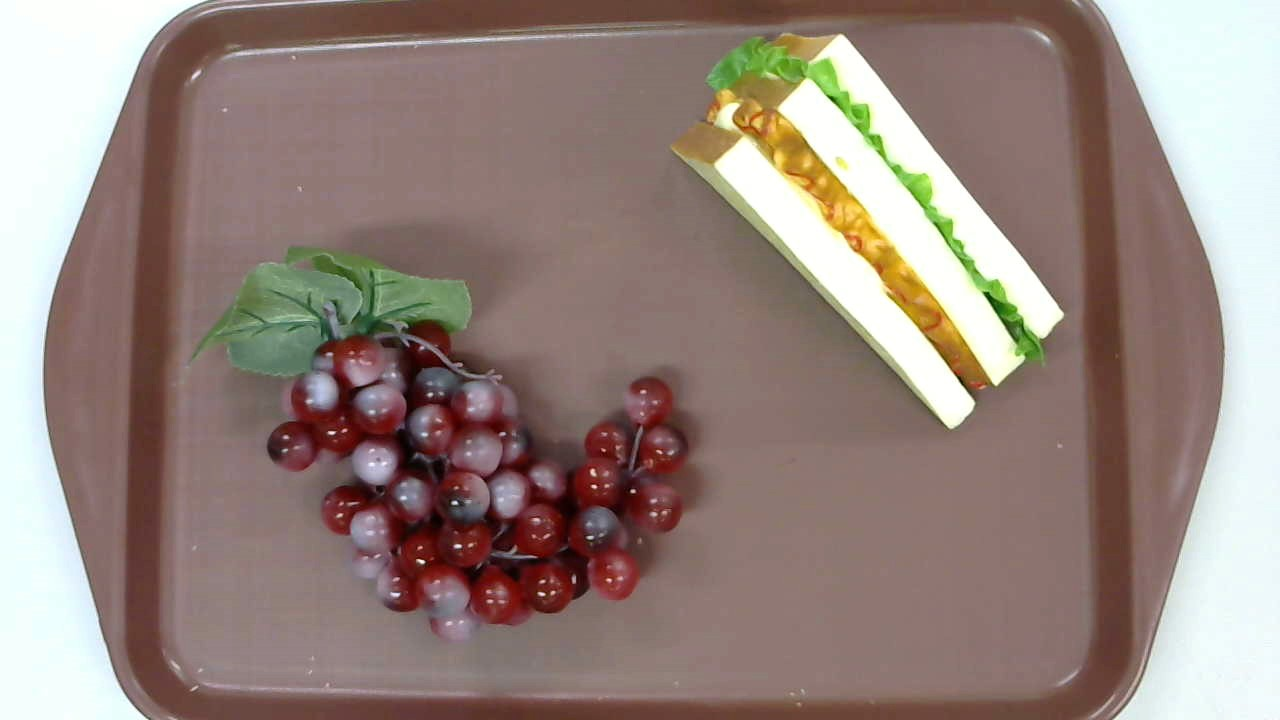grape: (186, 244, 688, 643)
sandwich: (671, 31, 1064, 430)
